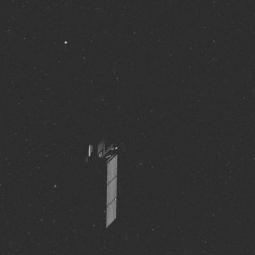earth_observation_sat_1: (75, 132, 124, 231)
